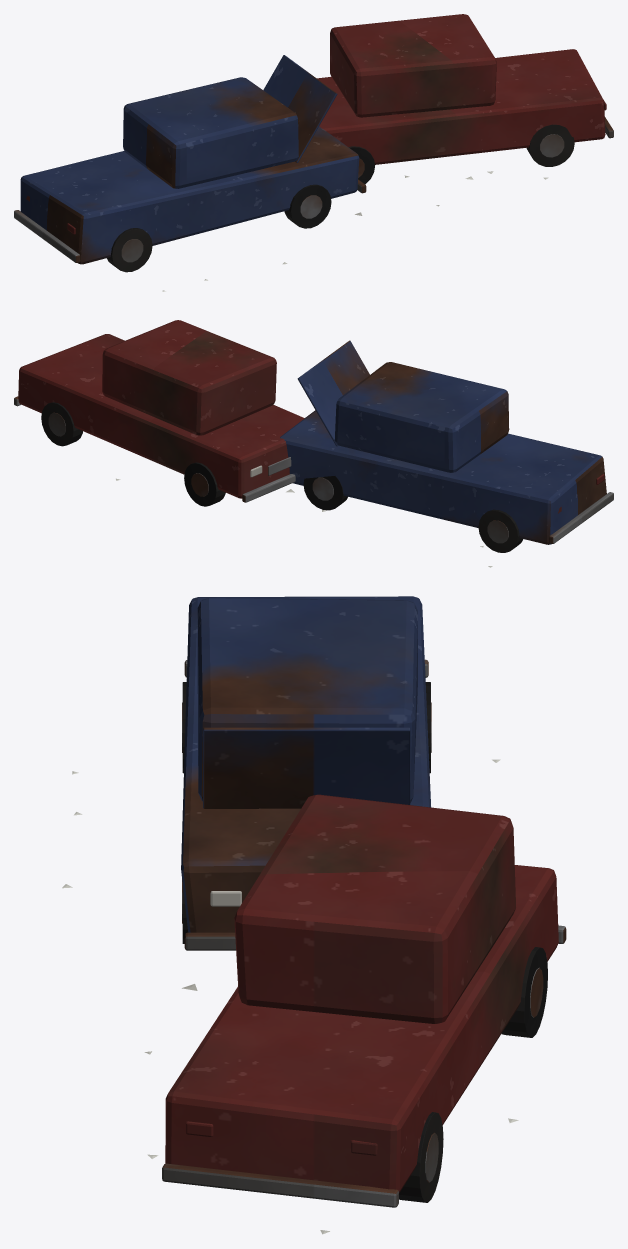
The model's file is JV07_head_on_collision_pair.glb.
3 views of the same model, one above another, from view 1: azimuth 30°, elevation 25°; view 2: azimuth 150°, elevation 25°; view 3: azimuth 270°, elevation 25° (orthographic). The views are drawn at different scales.
Visible parts, largest first — view 1: JV07_head_on_collision_pair; view 2: JV07_head_on_collision_pair; view 3: JV07_head_on_collision_pair.
Part boxes in pixels (x1,y1,x2,y2): JV07_head_on_collision_pair: [14, 14, 613, 291]; JV07_head_on_collision_pair: [14, 320, 613, 567]; JV07_head_on_collision_pair: [62, 596, 566, 1234].
Bounding box in the file's own units: 8 × 1.69 × 3.19.
7 materials, 7 textured.
